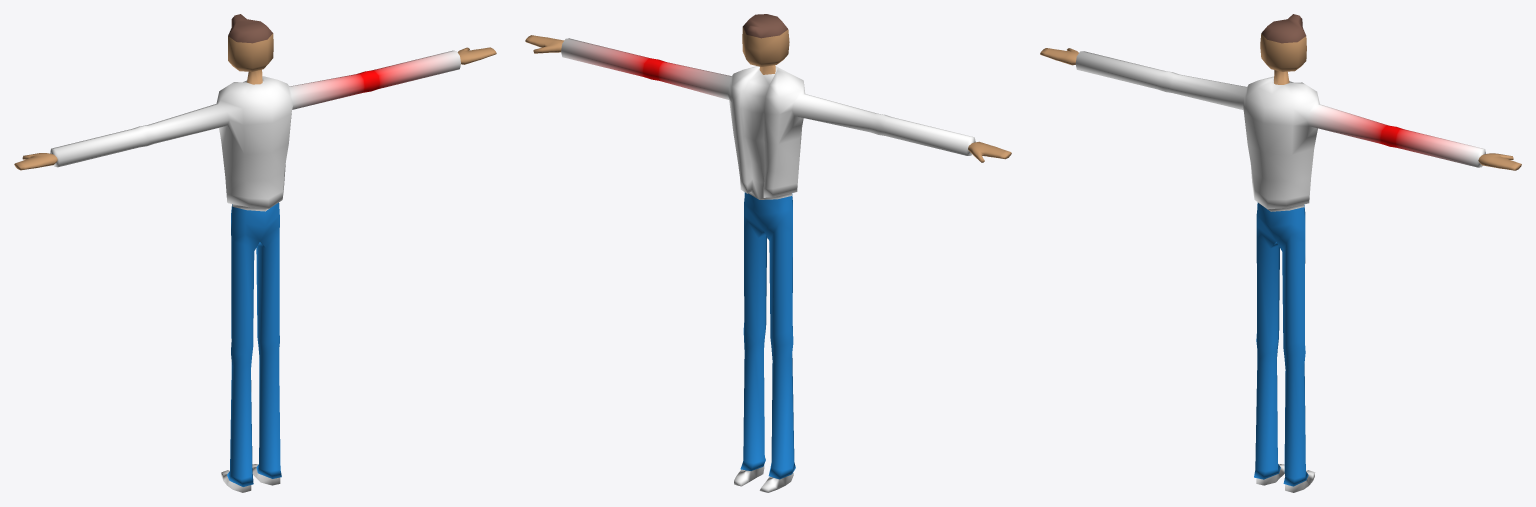
The model's file is Enemy02Model.obj.
The picture shows the model from 3 angles, left to right: view 1: azimuth 30°, elevation 25°; view 2: azimuth 150°, elevation 25°; view 3: azimuth 330°, elevation 25°; orthographic projection.
Visible parts, largest first — view 1: EnemyModel_2, EnemyModel_0, EnemyModel_3, EnemyModel_4; view 2: EnemyModel_2, EnemyModel_0, EnemyModel_3, EnemyModel_5, EnemyModel_4, EnemyModel_1; view 3: EnemyModel_2, EnemyModel_0, EnemyModel_3, EnemyModel_4.
Part boxes in pixels (box(x1,y1,x2,y2)): EnemyModel_2: box(52, 50, 460, 208); EnemyModel_0: box(227, 202, 281, 486); EnemyModel_3: box(14, 33, 496, 170); EnemyModel_4: box(228, 14, 272, 43); EnemyModel_2: box(561, 38, 973, 197); EnemyModel_0: box(740, 192, 795, 479); EnemyModel_3: box(525, 26, 1011, 162); EnemyModel_5: box(742, 70, 791, 199); EnemyModel_4: box(743, 14, 787, 38); EnemyModel_1: box(734, 465, 793, 492); EnemyModel_2: box(1075, 51, 1483, 209); EnemyModel_0: box(1254, 202, 1308, 486); EnemyModel_3: box(1040, 33, 1521, 170); EnemyModel_4: box(1261, 14, 1306, 43).
Bounding box in the file's own units: 5.65 × 5.2 × 0.7254.
